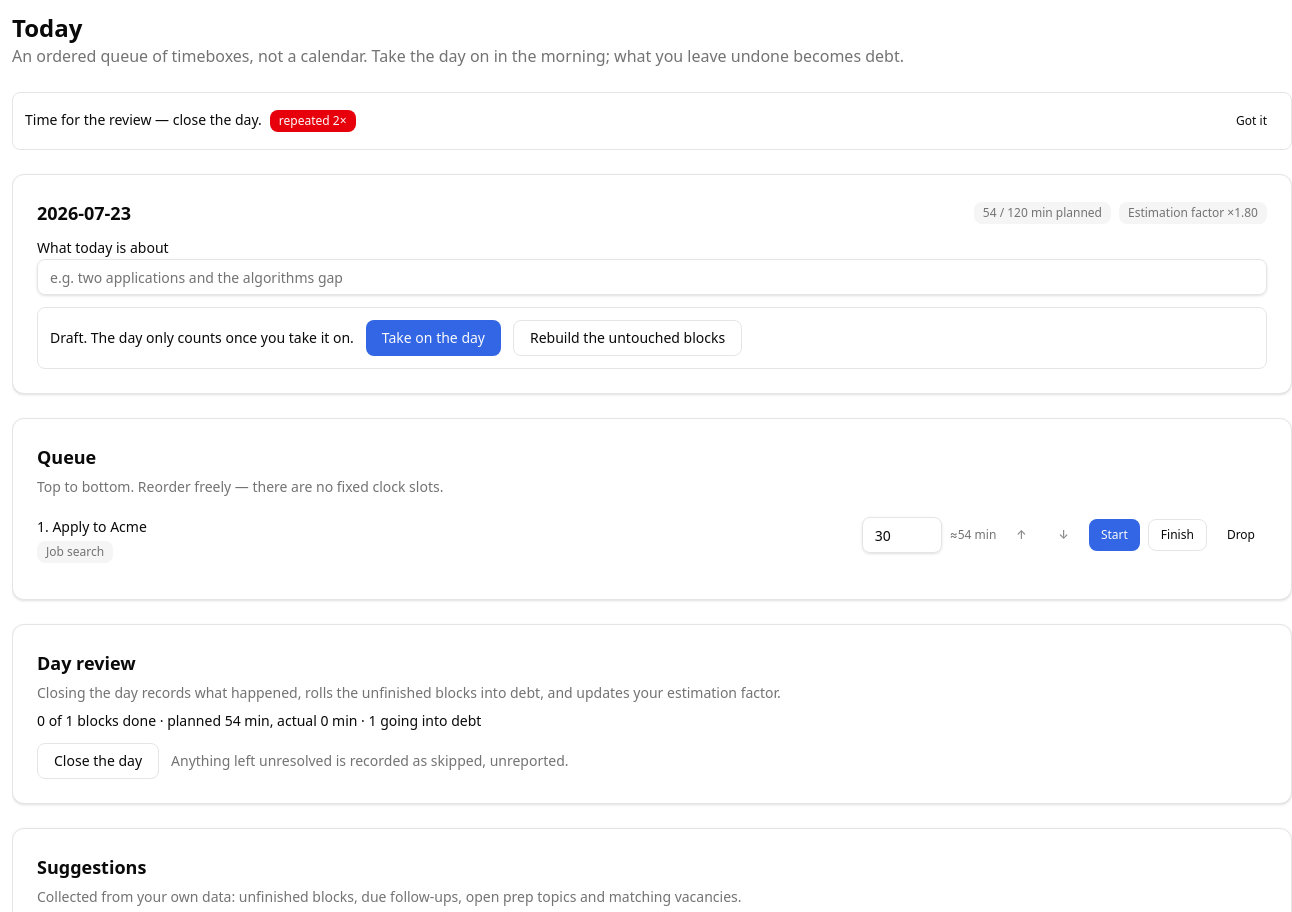
DayPlanner › shows in-app nudges and acknowledges them
The width and height of the screenshot is (1292, 912).
Check: the text "Time for the review — close the day." is shown, box [25, 110, 262, 129]
Check: the text "repeated 2×" is shown, box [270, 110, 356, 132]
Click the button "Got it". click: click(1252, 121)
box: [1224, 105, 1279, 137]
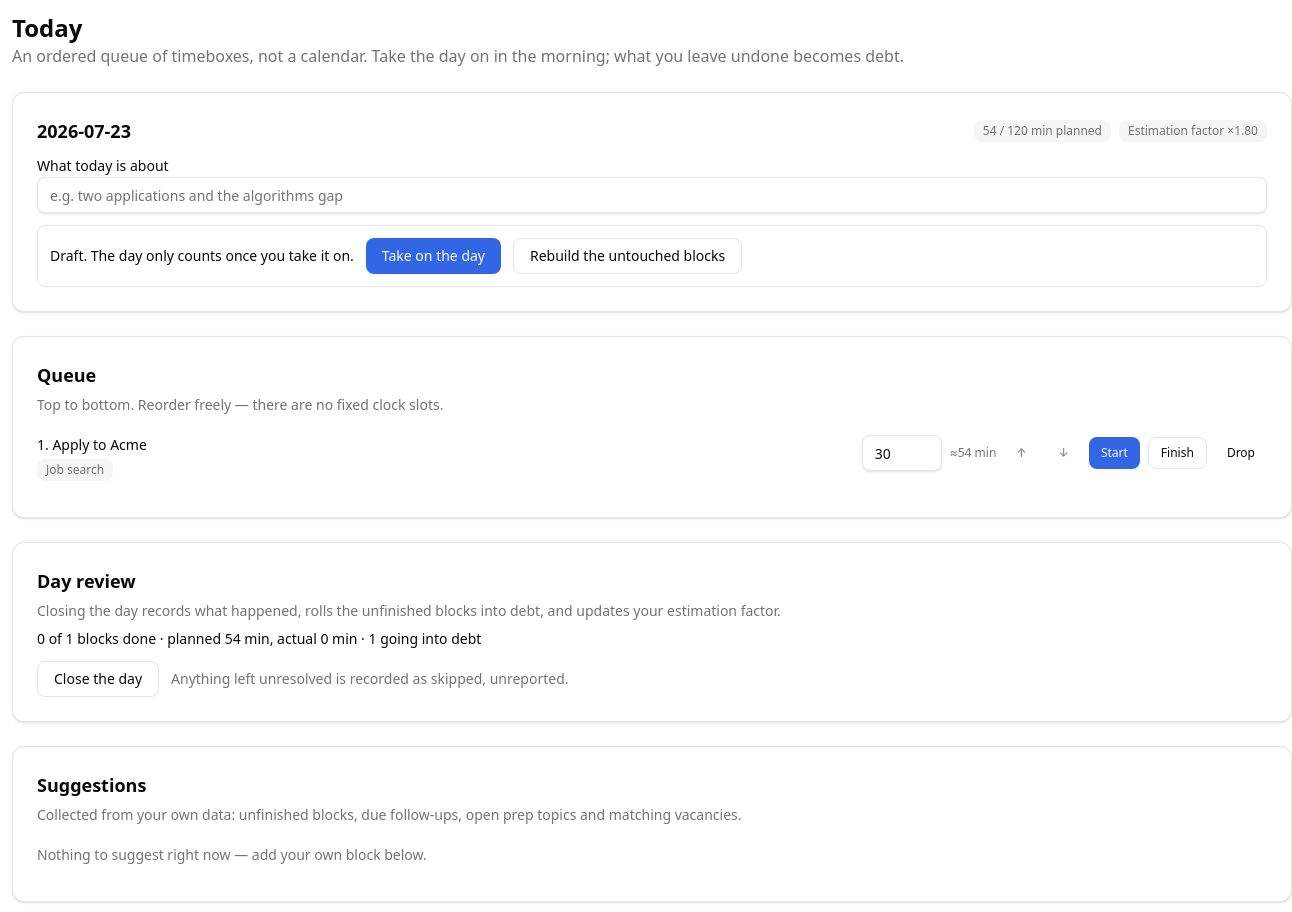
Check: the text "Time for the review — close the day." is gone
